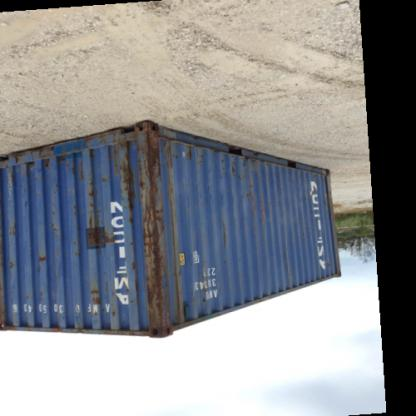Damage: (141, 128, 188, 328), (114, 135, 140, 239), (224, 156, 260, 208), (19, 148, 73, 178), (83, 176, 101, 252), (85, 290, 118, 327), (14, 288, 60, 310), (46, 194, 62, 238), (218, 217, 229, 263), (194, 150, 208, 172), (8, 223, 22, 243), (36, 254, 48, 270), (5, 262, 16, 276)
